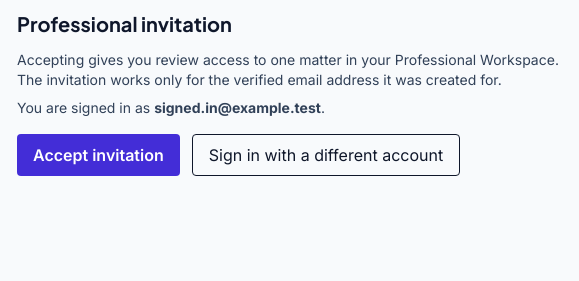
Test: Stage 10 slice 8: AcceptInvitation › an unverified sign-in email is told so, without anything about the invitation
Click the button "Accept invitation".
click(98, 155)  # box [17, 134, 180, 176]
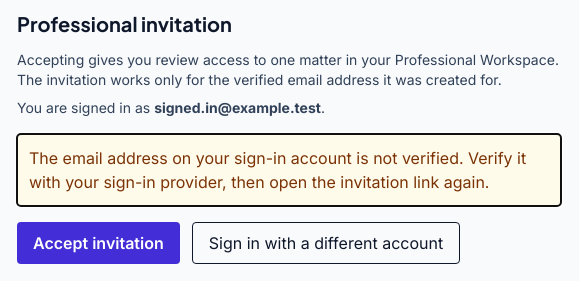
Expected: the message shows "The email address on your sign-in account is not verified. Verify it with your sign-in provider, then open the invitation link again.", [29, 148, 526, 192]
